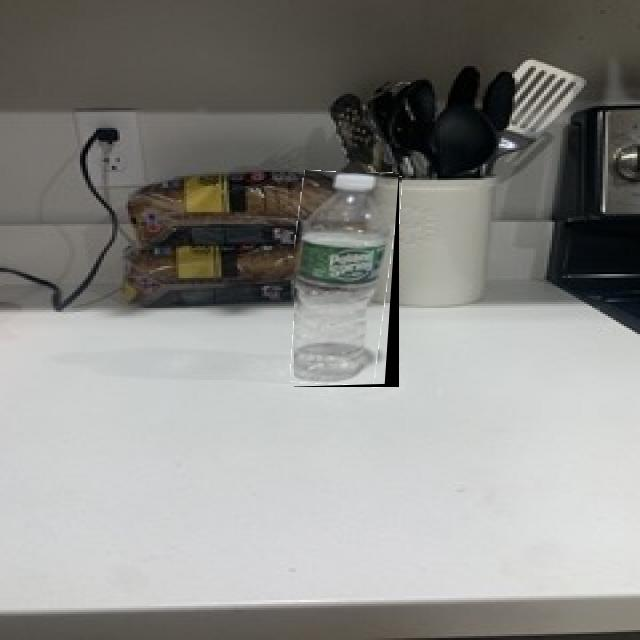water_bottle: (294, 172, 399, 387)
